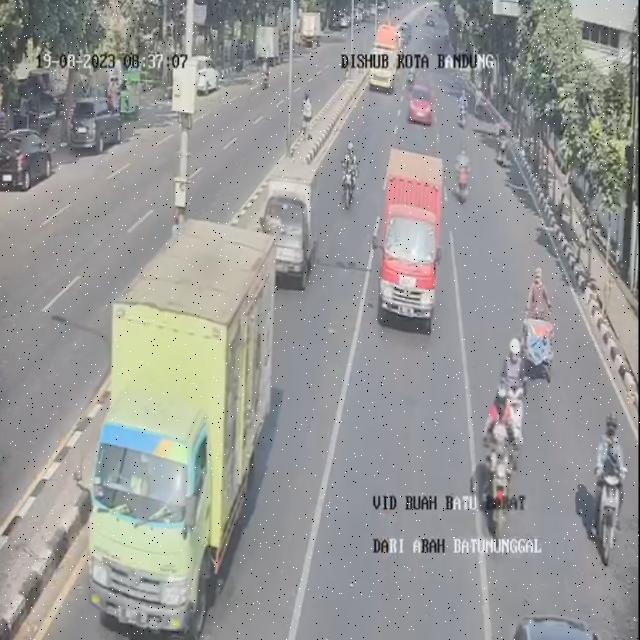cars: (516, 605, 602, 640), (406, 80, 435, 124)
motorcycle: (476, 380, 528, 527), (589, 411, 623, 558), (499, 336, 534, 450), (339, 133, 362, 202), (451, 141, 475, 201), (456, 86, 471, 131), (499, 120, 511, 164), (476, 81, 484, 122)
truck: (82, 210, 281, 631), (373, 148, 442, 341), (258, 160, 323, 287), (368, 12, 397, 85)
